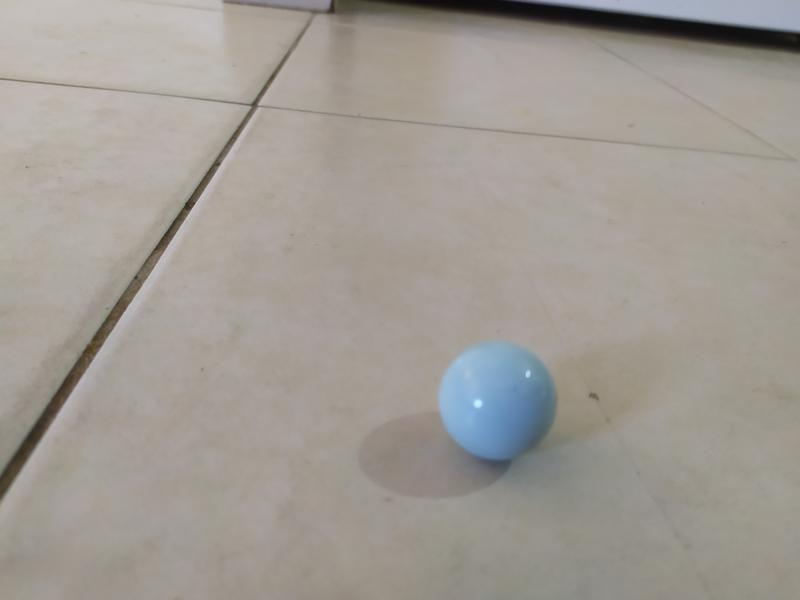Warning: (434, 337, 562, 464)
